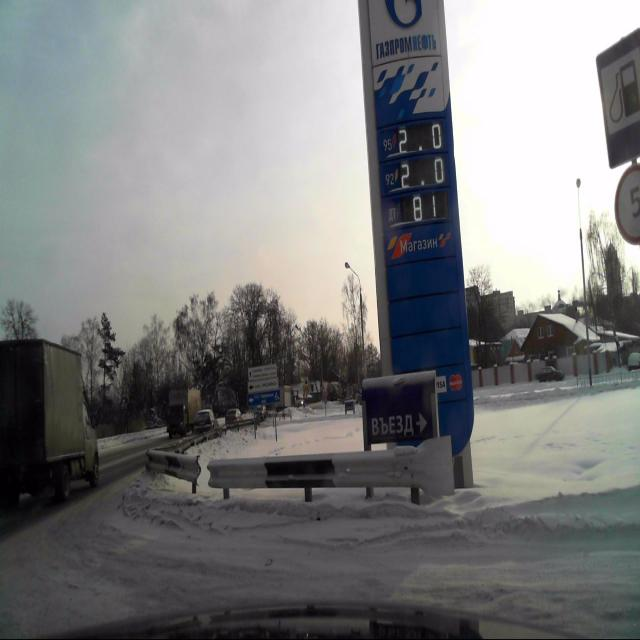road sign: (597, 30, 639, 170), (616, 167, 638, 242), (247, 388, 280, 408), (248, 364, 278, 380), (249, 378, 280, 392)
